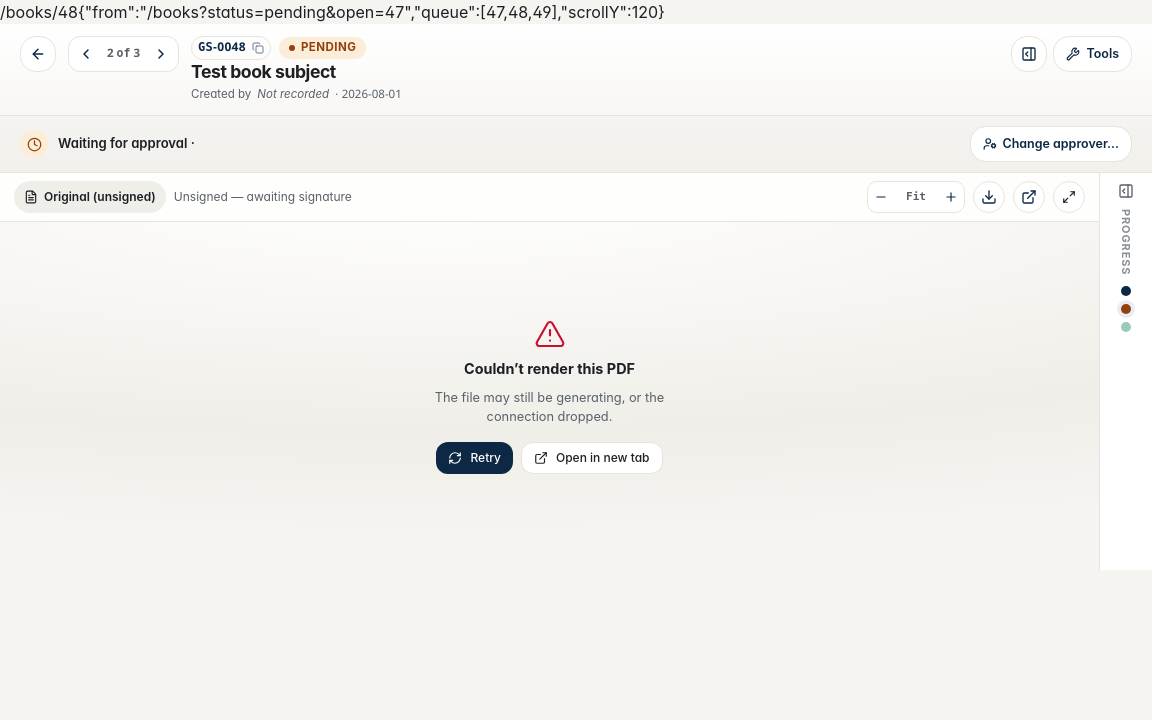
BookRecordPage — nav state survives in-record navigation › opening a decision overlay keeps the queue context
The image size is (1152, 720).
Check: the element with test id "queue-position" is shown, box [107, 41, 140, 66]
Step 1. Click the button "Change approver…" → (1051, 144), box [970, 126, 1132, 162]
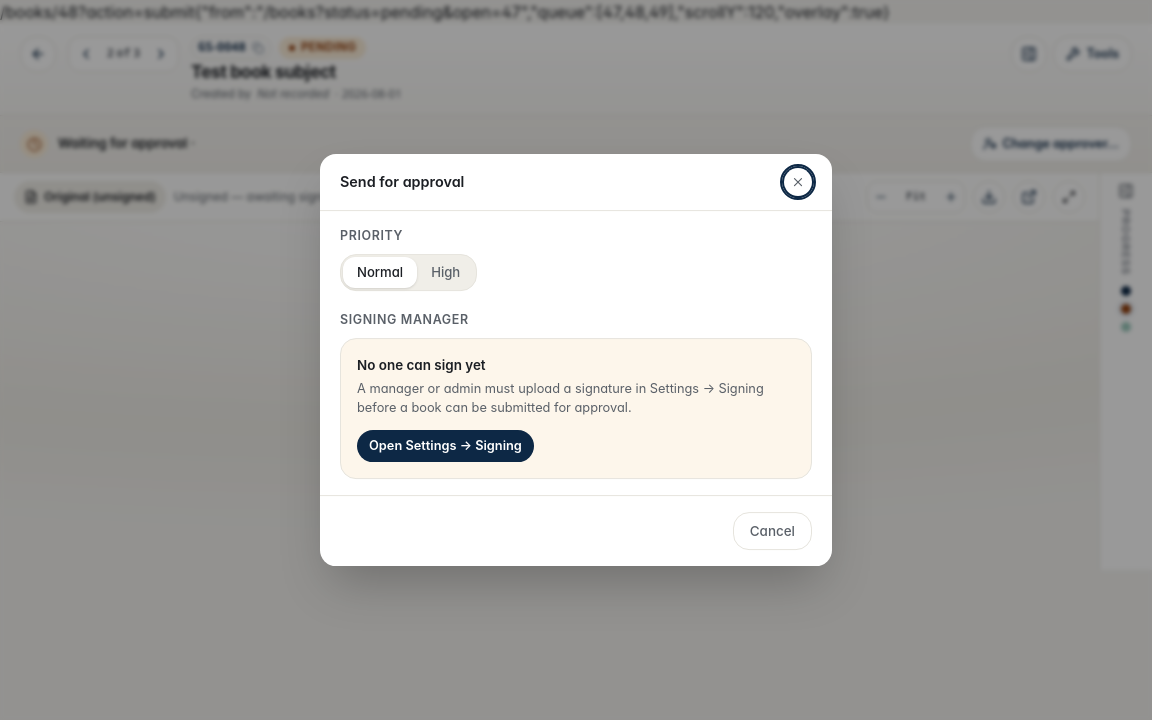
Check: the element with test id "queue-position" reads "2 of 3", box [107, 41, 140, 66]
Check: the text with test id "loc" shows "action=submit", box [0, 2, 195, 22]
